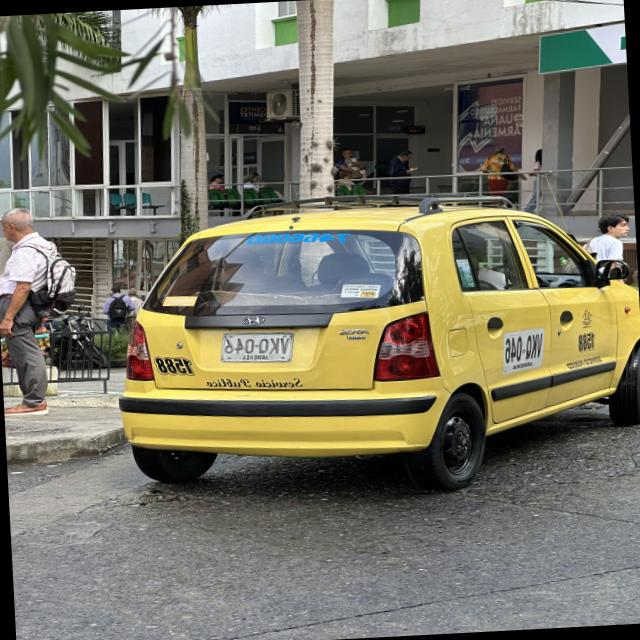number plate: (222, 333, 293, 362)
